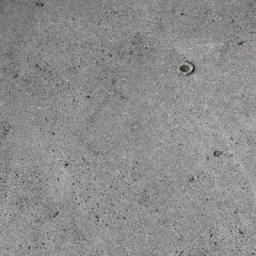FOD: (175, 61, 197, 78)
